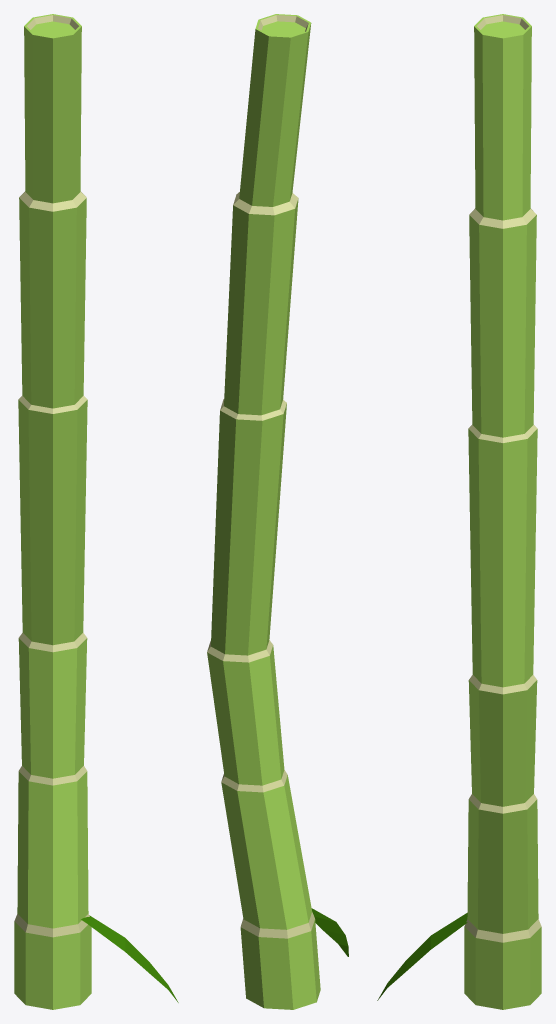
The model's file is FIL_ZenGargen_Bamboo_01.fbx.
3 views of the same model, side by side, from view 1: azimuth 90°, elevation 25°; view 2: azimuth 150°, elevation 25°; view 3: azimuth 270°, elevation 25° (orthographic).
Parts seen in each view (by area): view 1: polySurface19; view 2: polySurface19; view 3: polySurface19.
Boxes of the visible parts, x1,y1,x2,y2 form: polySurface19: [14, 14, 178, 1009]; polySurface19: [207, 14, 348, 1009]; polySurface19: [377, 14, 541, 1009].
Bounding box in the file's own units: 2.63 × 23.04 × 3.51.
